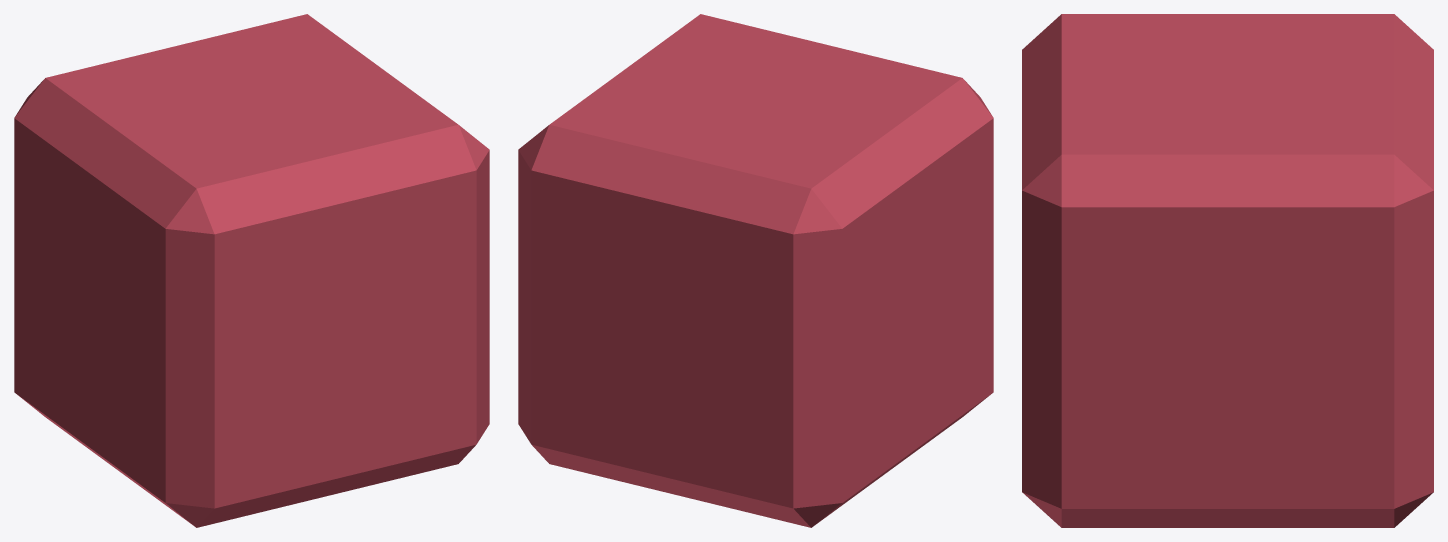
Rendered from red2.obj.
The picture shows the model from 3 angles, left to right: view 1: azimuth 30°, elevation 25°; view 2: azimuth 150°, elevation 25°; view 3: azimuth 270°, elevation 25°; orthographic projection. The views are drawn at different scales.
Parts seen in each view (by area): view 1: 2.003_Cube.004; view 2: 2.003_Cube.004; view 3: 2.003_Cube.004.
Part boxes in pixels (left/top/right/bottom): 2.003_Cube.004: left=14, top=14, right=489, bottom=527; 2.003_Cube.004: left=518, top=14, right=993, bottom=527; 2.003_Cube.004: left=1022, top=14, right=1433, bottom=527.
Bounding box in the file's own units: 5.22 × 5.22 × 5.22.
